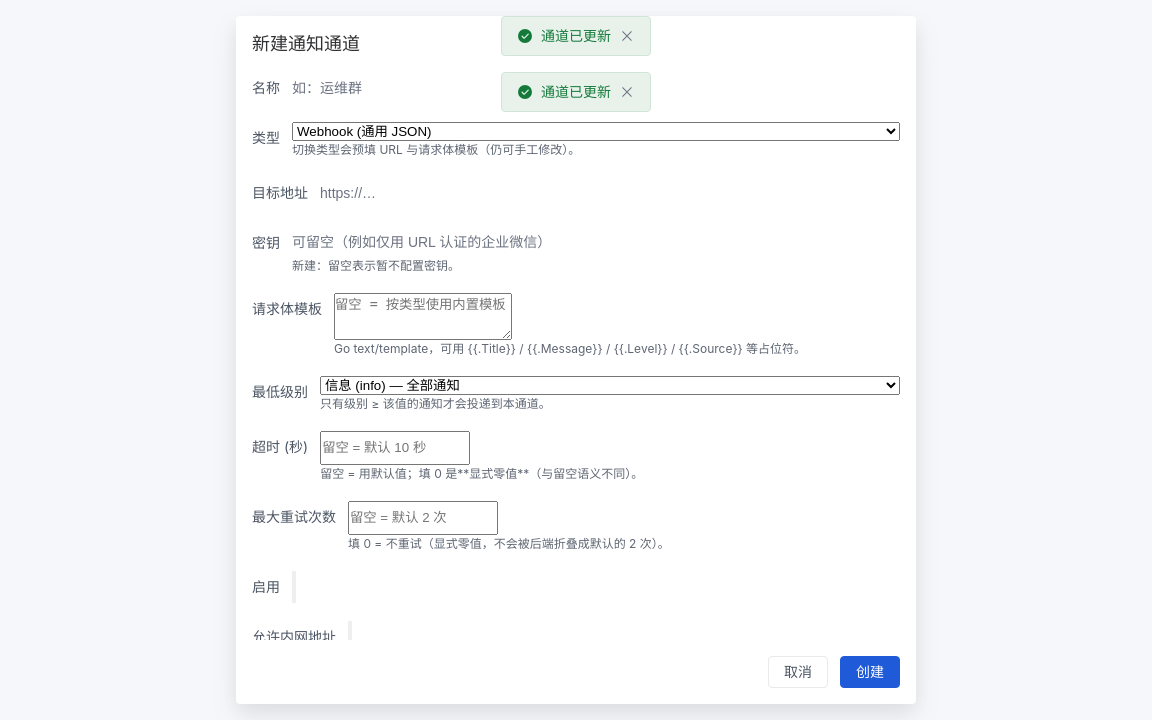
Test: 通知通道表单：secret 语义 + 预设模板 + 测试按钮 › ③ 选「企业微信」预设 ⇒ URL 前缀与 markdown body 被预填（断言预填后的值）
This screenshot has width=1152, height=720.
Step 1. Select "企业微信 (群机器人)" in the dropdown with test id "field-type" → [596, 132], box top-left (292, 122), bottom-right (900, 141)
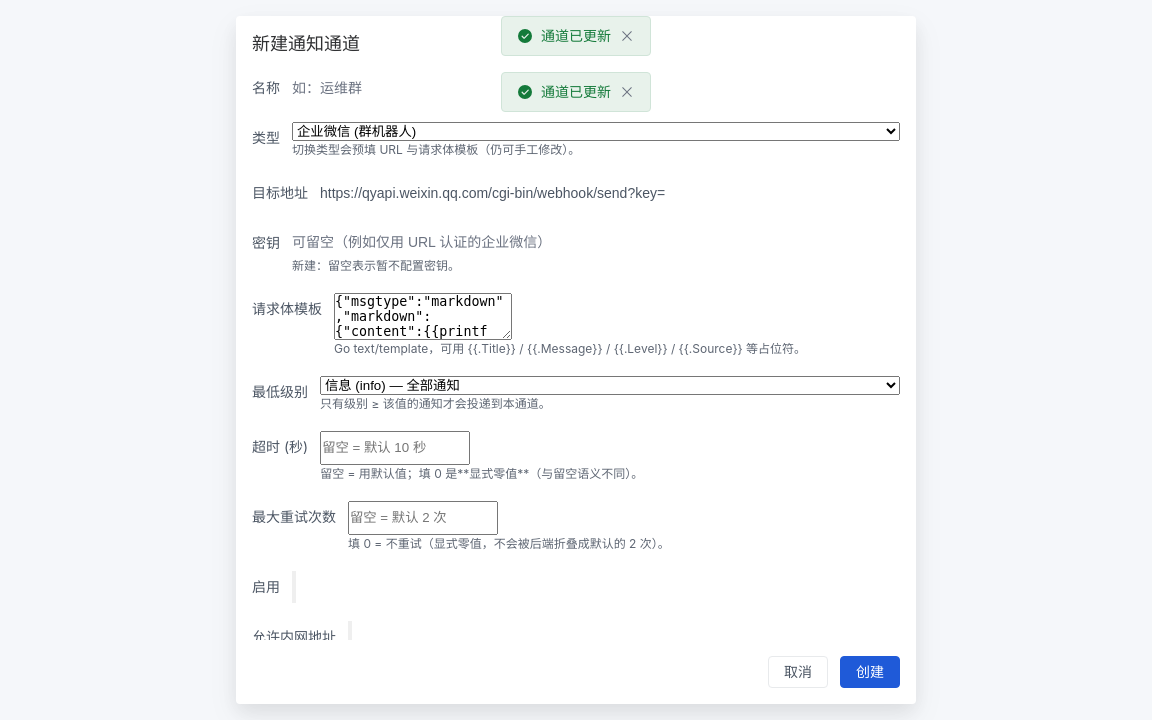
Result: the field with test id "field-target-url" holds "https://qyapi.weixin.qq.com/cgi-bin/webhook/send?key=" at top-left (320, 178), bottom-right (900, 208)
